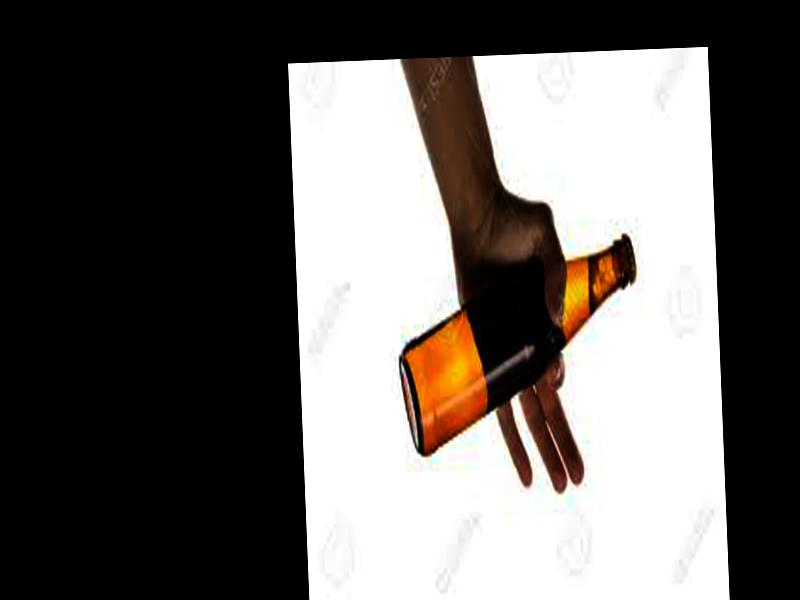Beer: (395, 239, 637, 450)
